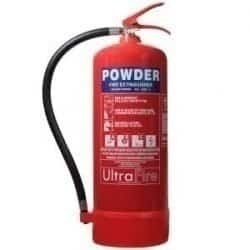fire_extinguisher: (41, 1, 172, 248)
